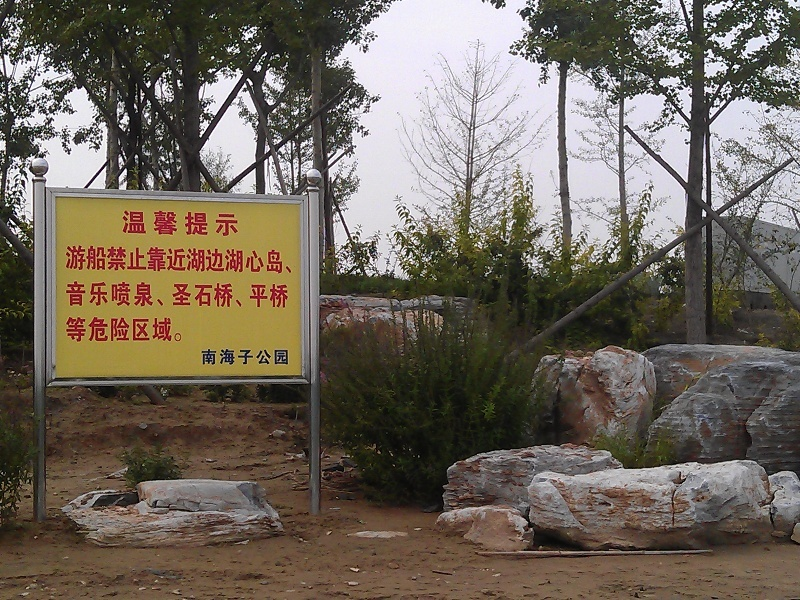text: (65, 280, 80, 310), (81, 280, 96, 310), (97, 280, 112, 310), (113, 280, 128, 310), (129, 280, 144, 310), (145, 280, 160, 310), (161, 280, 176, 310), (177, 280, 192, 310), (193, 280, 208, 310), (209, 280, 224, 310), (225, 280, 240, 310), (241, 280, 256, 310), (257, 280, 272, 310), (273, 280, 288, 310), (65, 246, 80, 275), (81, 246, 96, 275), (97, 246, 112, 275), (113, 246, 128, 275), (129, 246, 144, 275), (145, 246, 160, 275), (161, 246, 176, 275), (177, 246, 192, 275), (193, 246, 208, 275), (209, 246, 224, 275), (225, 246, 240, 275), (241, 246, 256, 275), (257, 246, 272, 275), (273, 246, 288, 275), (129, 210, 144, 237), (145, 210, 160, 237), (161, 210, 176, 237), (177, 210, 192, 237), (193, 210, 208, 237), (209, 210, 224, 237), (225, 210, 240, 237), (65, 316, 80, 343), (81, 316, 96, 343), (97, 316, 112, 343), (113, 316, 128, 343), (129, 316, 144, 343), (145, 316, 160, 343), (161, 316, 176, 343), (209, 348, 224, 366), (225, 348, 240, 366), (241, 348, 256, 366), (257, 348, 272, 366), (273, 348, 288, 366), (120, 210, 128, 237), (177, 316, 184, 343), (289, 246, 294, 275), (202, 348, 208, 366), (289, 280, 291, 310), (62, 316, 64, 343), (289, 348, 290, 366)
